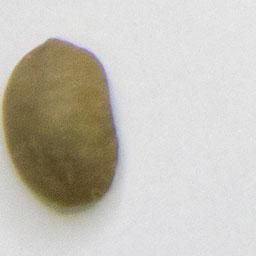premium: (1, 34, 123, 211)
